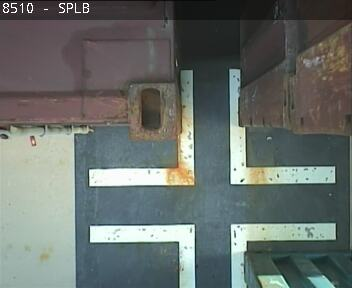groundmarker_1: (87, 69, 336, 187), (87, 223, 336, 288)
